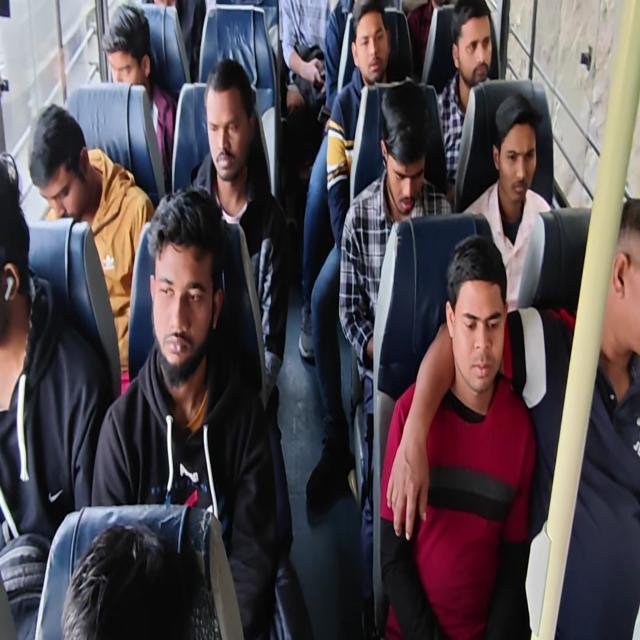person: (55, 527, 223, 640), (146, 186, 220, 403), (26, 96, 106, 228), (444, 232, 508, 391), (0, 142, 38, 369), (201, 53, 256, 208), (378, 73, 430, 210), (100, 0, 160, 109), (496, 88, 544, 214), (610, 196, 640, 382), (352, 0, 392, 94), (455, 5, 496, 91)
